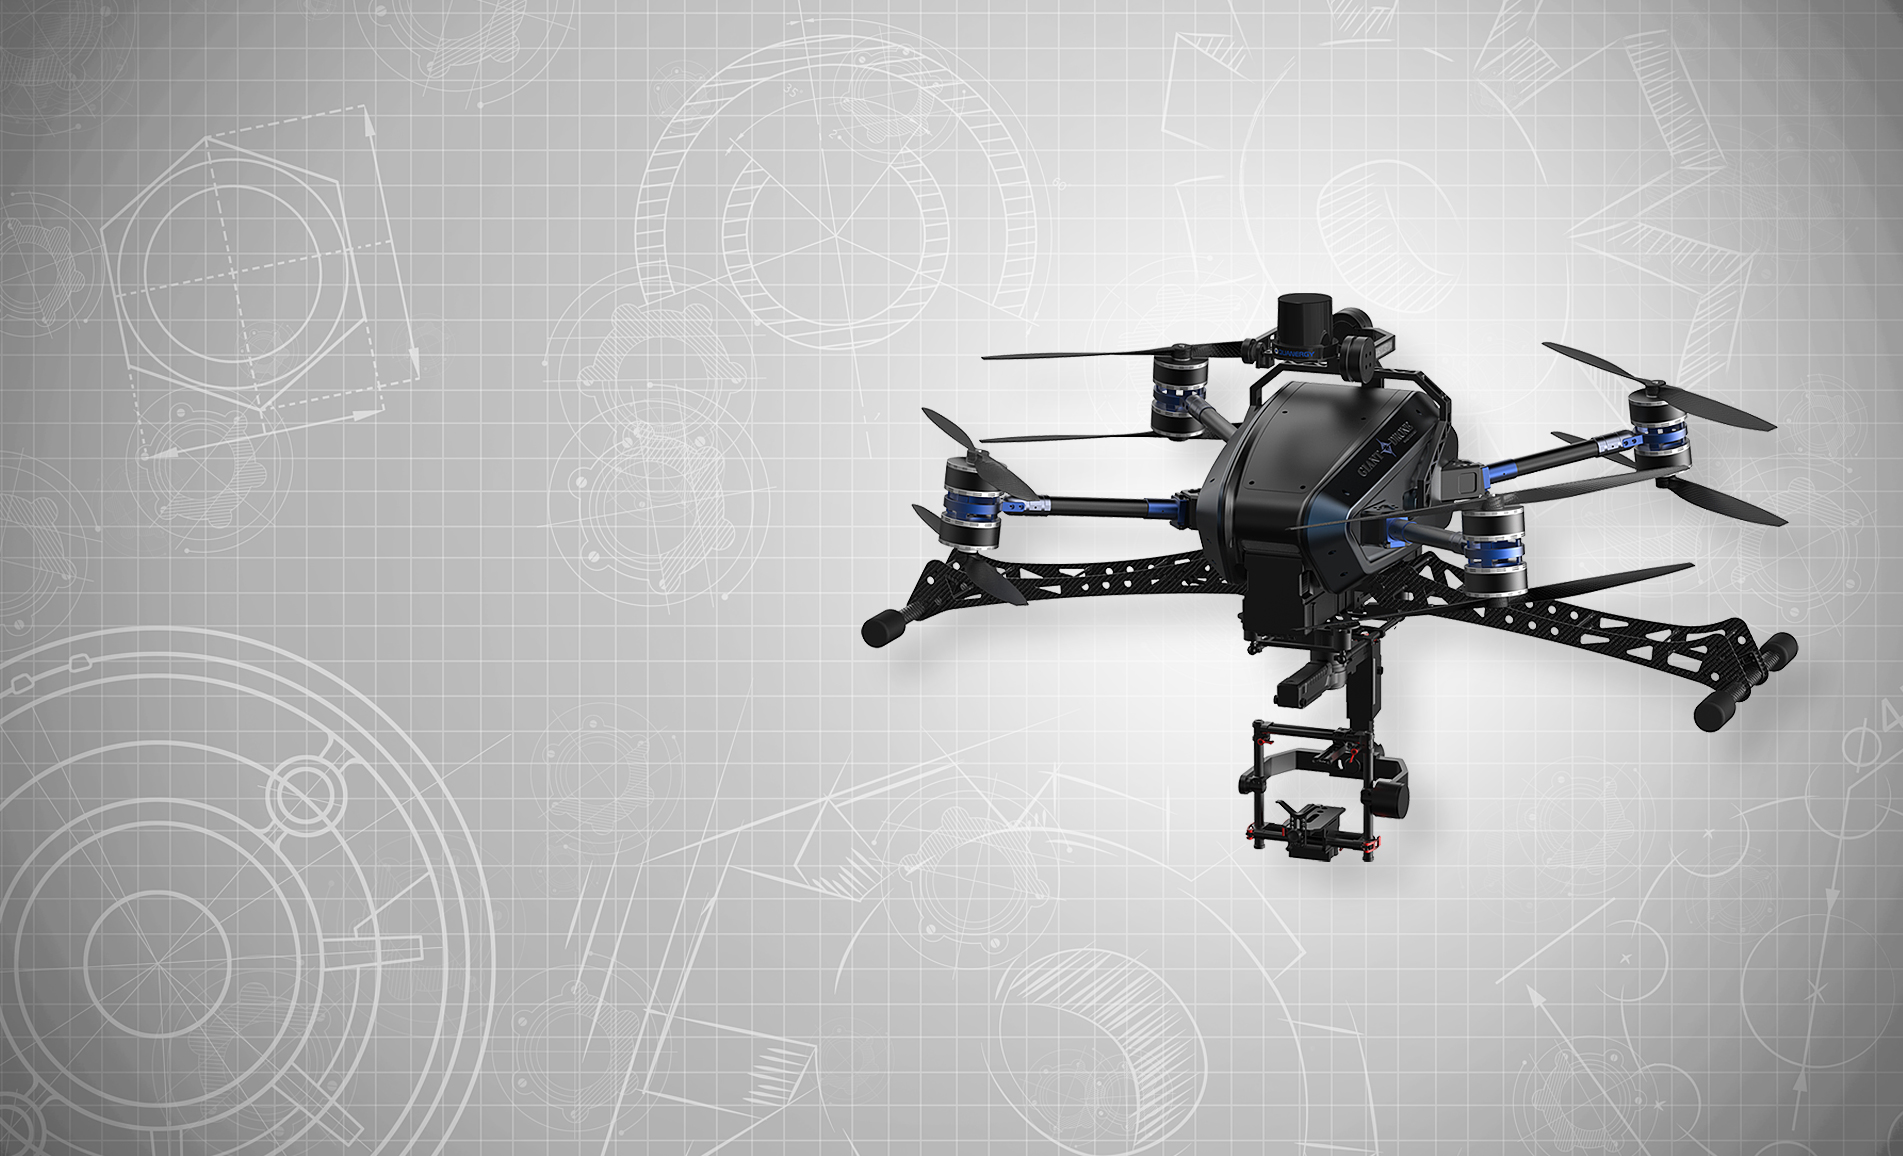drone: (856, 286, 1815, 870)
